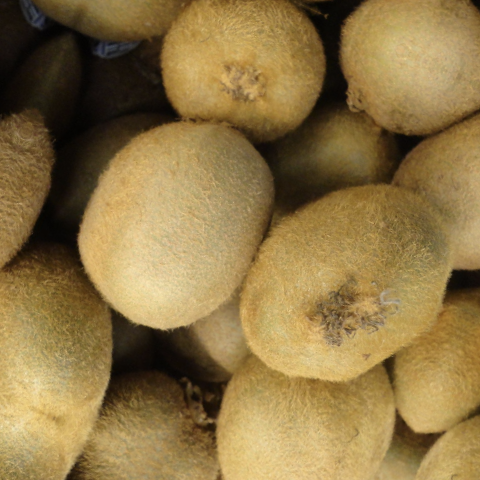kiwi: (32, 60, 328, 367), (199, 127, 480, 436), (179, 307, 425, 480), (125, 0, 353, 183)
